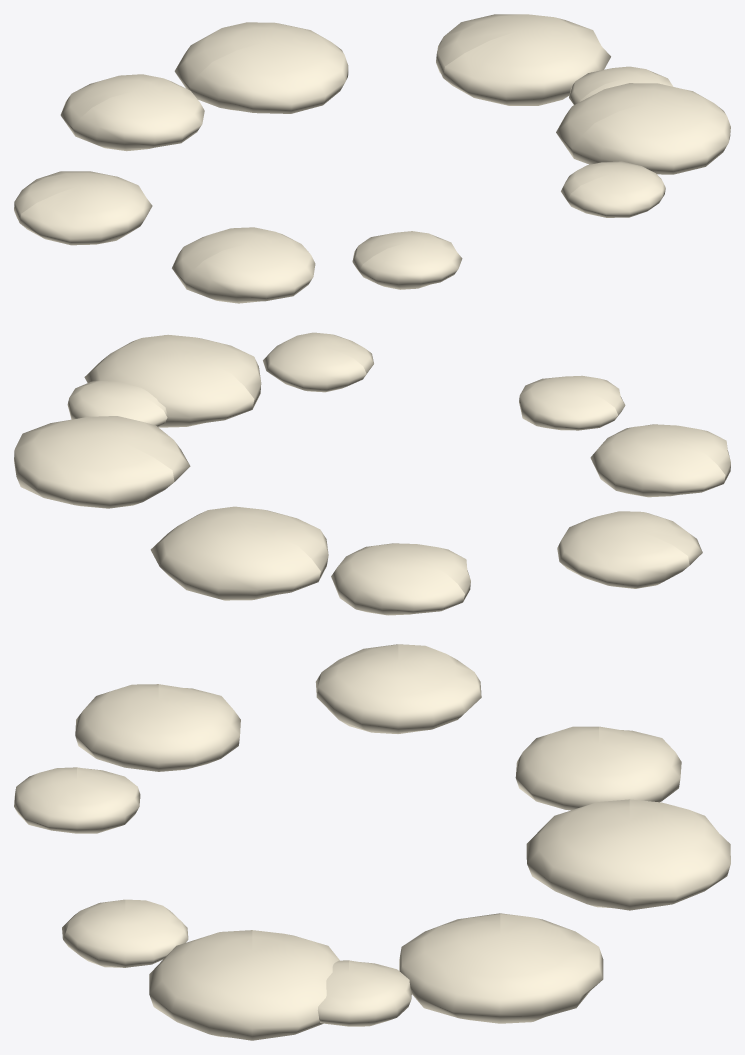
Rendered from shells.glb.
3 views of the same model, one above another, from view 1: azimuth 30°, elevation 25°; view 2: azimuth 150°, elevation 25°; view 3: azimuth 270°, elevation 25° (orthographic). The views are drawn at different scales.
Parts seen in each view (by area): view 1: shell-scatter; view 2: shell-scatter; view 3: shell-scatter.
Boxes of the visible parts, bbox=[...] form: shell-scatter: bbox=[14, 14, 730, 303]; shell-scatter: bbox=[14, 332, 730, 615]; shell-scatter: bbox=[14, 644, 730, 1040].
Size of the model in its own units: 1.1 by 0.0951 by 0.8906.
